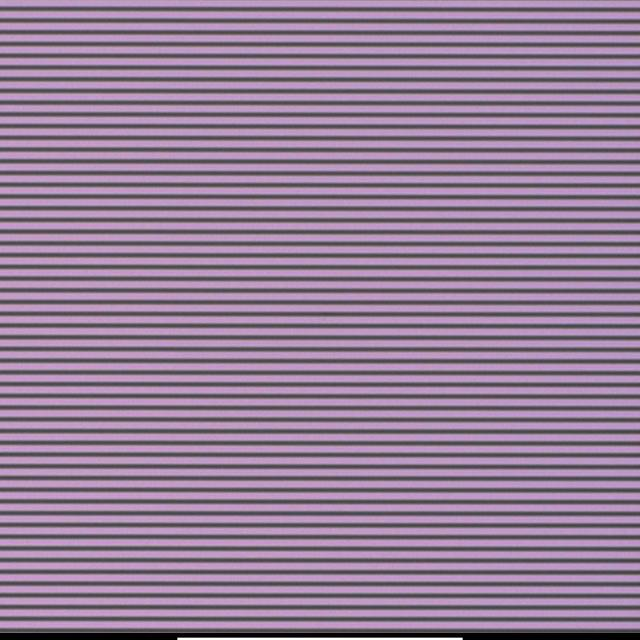nonvisual: (330, 273, 339, 282)
